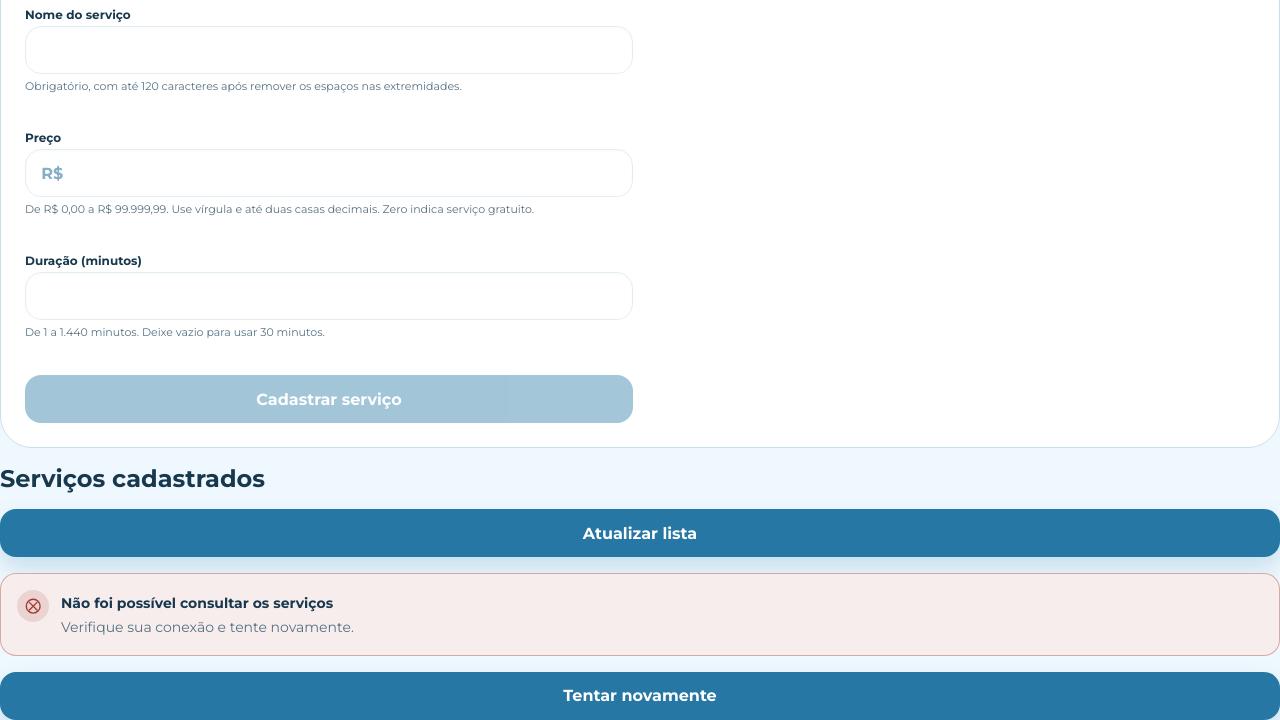
Test: distingue vazio, erro com nova tentativa e somente leitura
The image size is (1280, 720).
(page scrolled)
Expected: the text "Não foi possível consultar os serviços" is shown, 61,594 -> 333,612
Click the button "Tentar novamente" at [640, 696], box 0,672 -> 1279,719
(page scrolled)
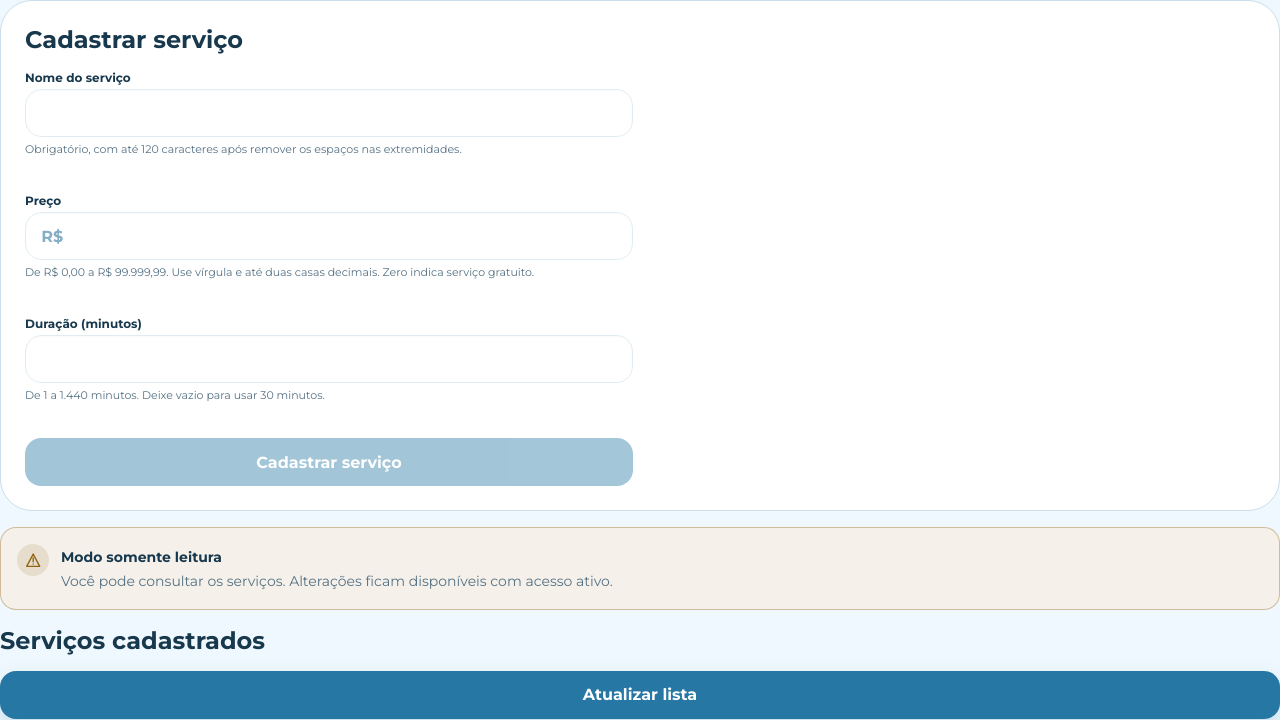
Expected: the text "Modo somente leitura" is shown, 61,548 -> 222,566
